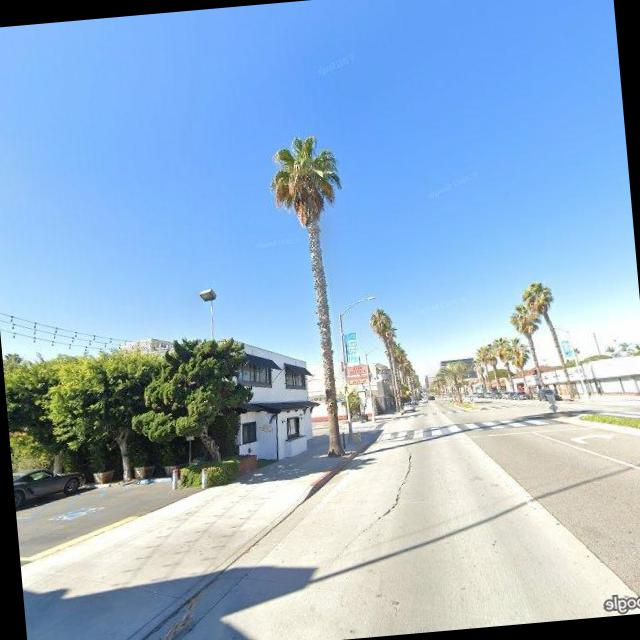pothole: (321, 448, 422, 566)
